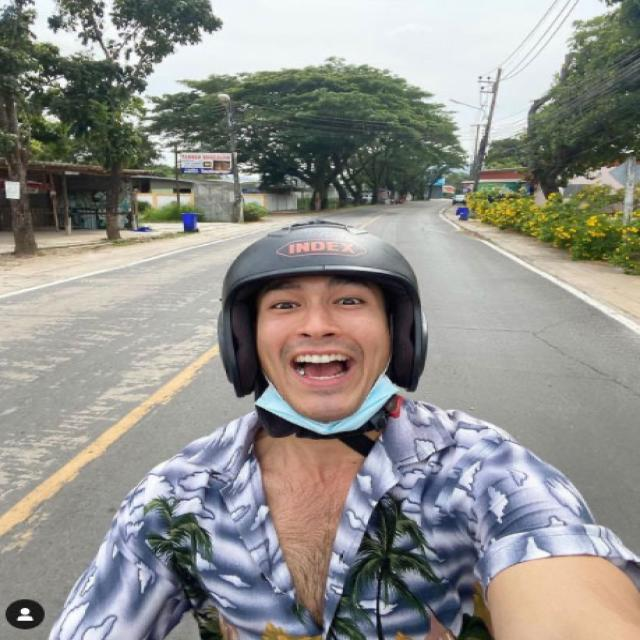helmet: (209, 212, 436, 446)
